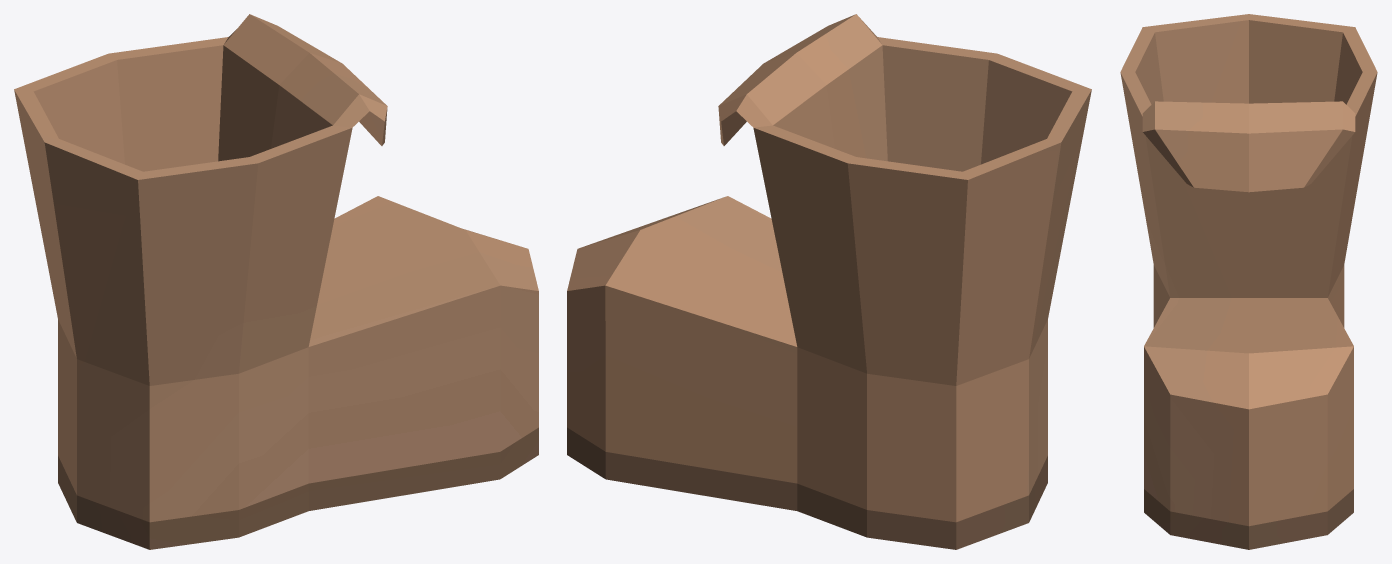
File: Boots.glb
3 views of the same model, side by side, from view 1: azimuth 30°, elevation 25°; view 2: azimuth 150°, elevation 25°; view 3: azimuth 270°, elevation 25° (orthographic). The views are drawn at different scales.
Visible parts, largest first — view 1: Cube.010_Cube.012; view 2: Cube.010_Cube.012; view 3: Cube.010_Cube.012.
Part boxes in pixels (x1=…): Cube.010_Cube.012: x1=14, y1=14, x2=538, y2=549; Cube.010_Cube.012: x1=567, y1=14, x2=1091, y2=549; Cube.010_Cube.012: x1=1120, y1=14, x2=1377, y2=549.
Bounding box in the file's own units: 1.66 × 1.35 × 0.888.
1 material, 1 textured.
